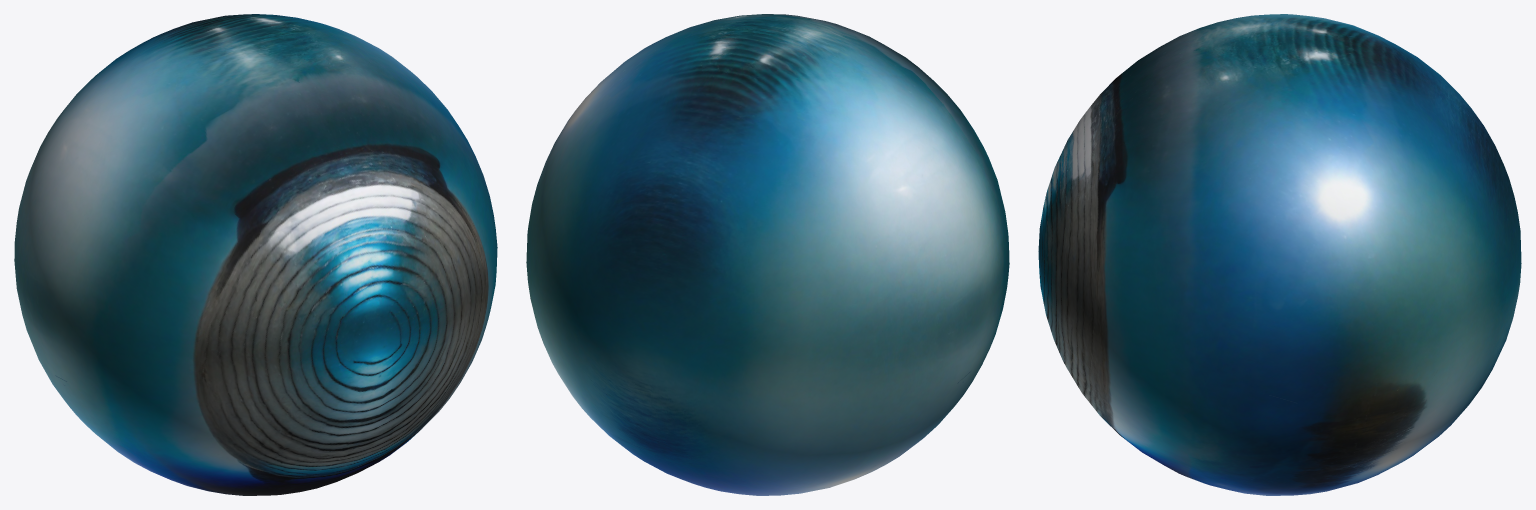
Rendered from testSphereUnit.glb.
The picture shows the model from 3 angles, left to right: view 1: azimuth 30°, elevation 25°; view 2: azimuth 150°, elevation 25°; view 3: azimuth 270°, elevation 25°; orthographic projection.
Visible parts, largest first — view 1: Mesh_0; view 2: Mesh_0; view 3: Mesh_0.
Boxes of the visible parts, x1,y1,x2,y2 form: Mesh_0: [14, 14, 497, 495]; Mesh_0: [526, 14, 1009, 495]; Mesh_0: [1038, 14, 1521, 495].
Bounding box in the file's own units: 0.9997 × 1 × 1.
1 material, 1 textured.
